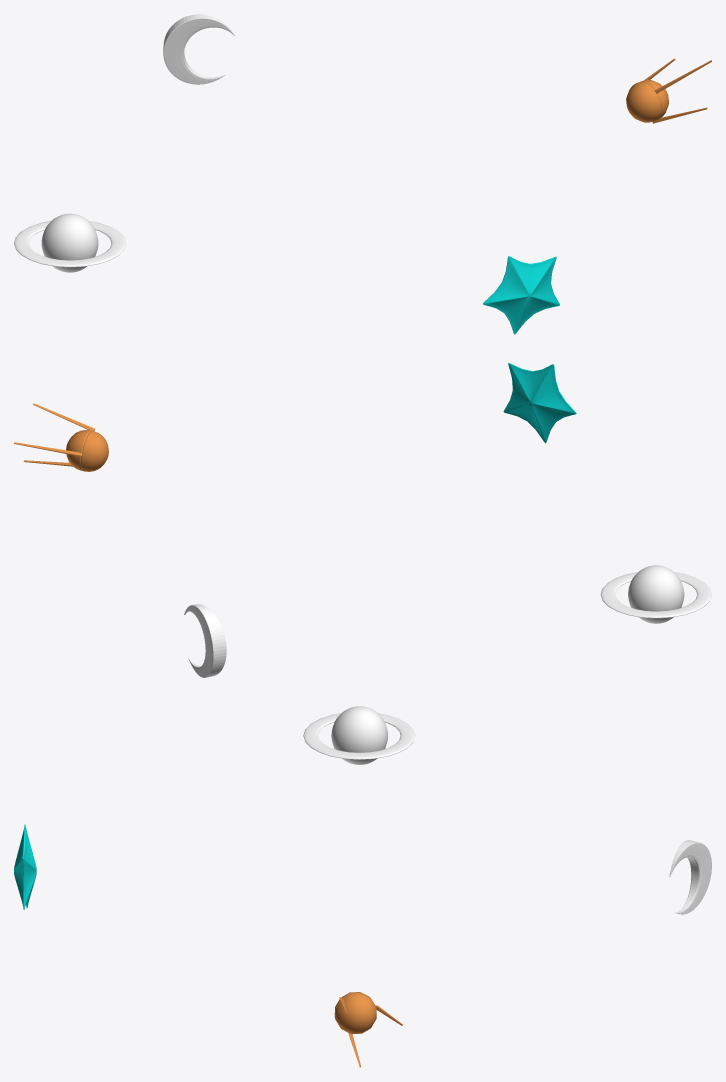
The model's file is satelites.gltf.
3 renders of one model, top to bottom at view 1: azimuth 30°, elevation 25°; view 2: azimuth 150°, elevation 25°; view 3: azimuth 270°, elevation 25°, orthographic.
Parts seen in each view (by area): view 1: saturn, star, moon, satelite; view 2: saturn, star, satelite, moon; view 3: saturn, satelite, moon, star.
Part boxes in pixels (box(x1,y1,x2,y2)): saturn: box(14, 213, 126, 272); star: box(483, 256, 559, 334); moon: box(163, 14, 235, 84); satelite: box(626, 58, 711, 123); saturn: box(600, 565, 711, 623); star: box(503, 363, 576, 443); satelite: box(14, 403, 108, 471); moon: box(184, 604, 226, 677); saturn: box(303, 706, 415, 764); satelite: box(334, 992, 402, 1067); moon: box(669, 840, 711, 914); star: box(14, 824, 36, 909).
Size of the model in its own units: 144 by 16.2 by 127.
